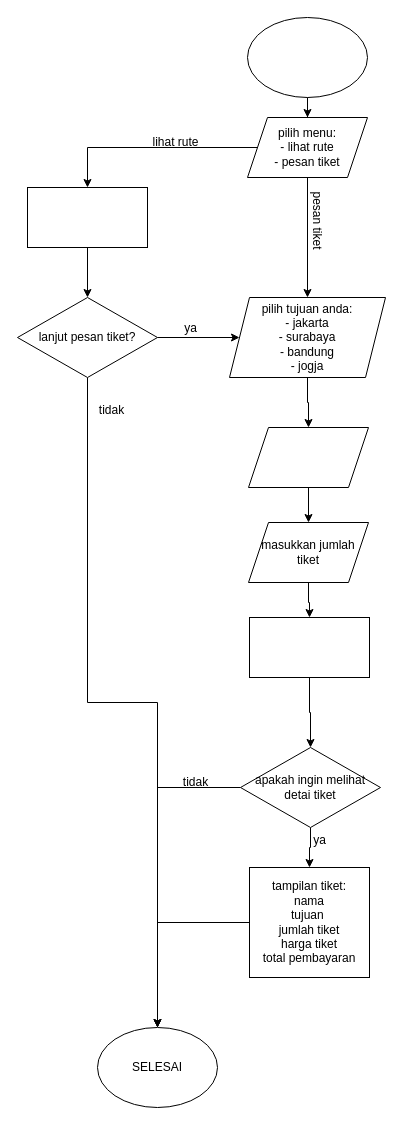
This 403x1125 diagram has some shape labels left out. Here are the shapes that lost their labels. From the top down, the centre of each, then its label:
the point at 307,57: MULAI
the point at 87,217: tampilan daftar rute
the point at 308,457: masukkan nama anda
the point at 309,647: total pembayaran =harga tiket * jumlah pembelian tiket
